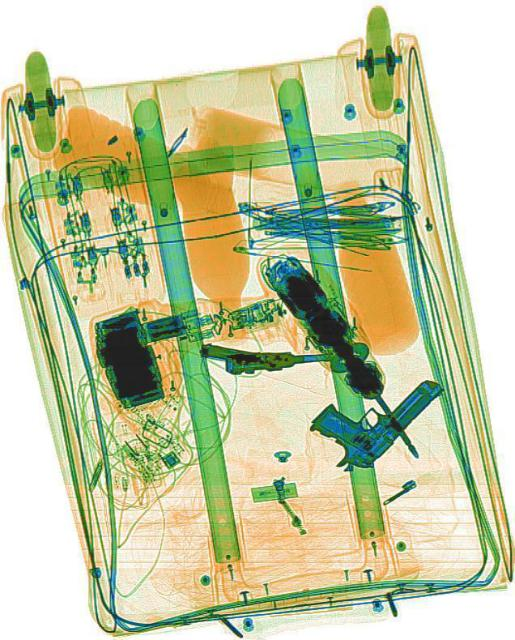Gun: (301, 328, 443, 486), (198, 334, 335, 374)
